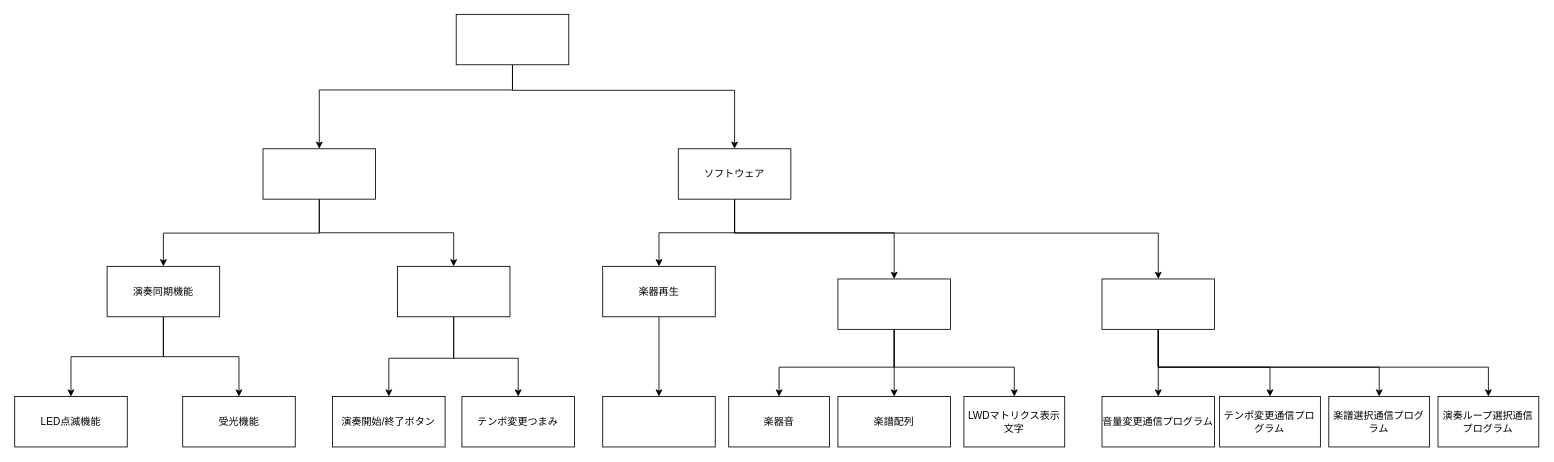
Image size: 1554x462. Some labels were removed from this diagram. Here are the shapes that lost their labels. From the top down, the centre of each, then its label:
At [512,39]: "LED同期演奏システム".
At [319,173]: "ハードウェア".
At [453,291]: "演奏制御機能".
At [893,303]: "データベース".
At [1158,303]: "webページ".
At [658,421]: "ArbuinoとProcessingのI2C通信".
